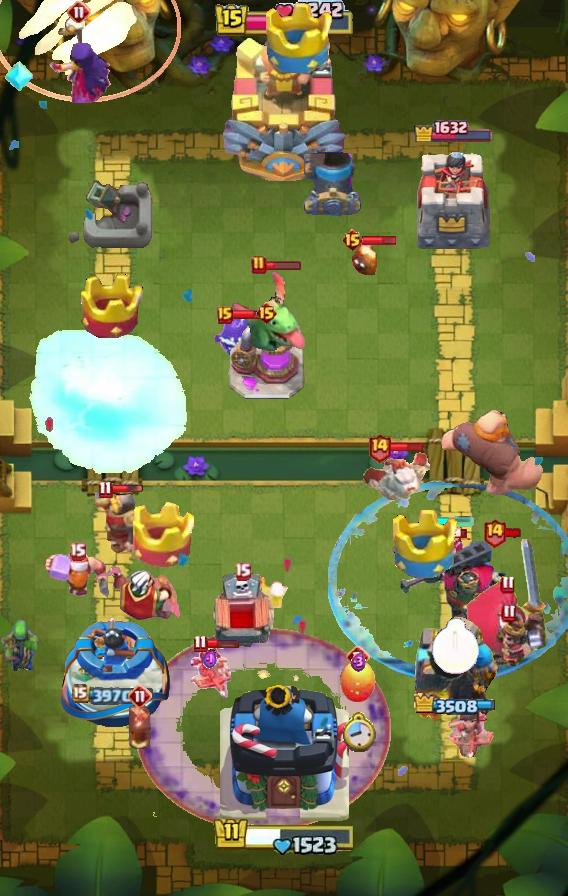axe: (47, 15, 111, 103)
balloon: (440, 407, 544, 499)
bomber: (127, 703, 153, 753), (351, 243, 379, 277)
clock: (212, 813, 356, 855), (213, 0, 355, 40)
electro-spirit: (203, 649, 217, 671), (351, 652, 366, 672)
electro-wizard: (232, 270, 308, 356)
elixir: (431, 617, 481, 674), (340, 710, 376, 752)
elixir-golem-mid: (207, 572, 277, 658)
emote: (231, 307, 267, 320), (265, 260, 303, 272), (390, 441, 426, 453), (204, 638, 240, 650), (362, 234, 398, 245), (110, 484, 144, 494), (448, 527, 468, 539), (505, 527, 524, 539)
firecracker: (93, 491, 142, 552)
giant-snowball: (0, 617, 40, 675)
heal-spirit: (259, 576, 289, 608)
hog: (338, 660, 378, 704)
ice-spirit: (435, 516, 475, 528)
ice-wizard: (0, 0, 180, 102)
inferno-tower: (399, 538, 511, 626)
king-tower: (220, 21, 348, 181), (219, 678, 349, 826)
mega-knight: (26, 328, 192, 478)
mighty-miner: (43, 551, 111, 605)
mini-pekka: (361, 450, 435, 504)
musketeer: (303, 152, 363, 216)
pad_0: (328, 480, 568, 682)
pad_2: (5, 59, 33, 93)
pekka: (227, 319, 305, 401)
queen-tower: (54, 614, 173, 730), (410, 144, 496, 255)
rocket: (135, 628, 391, 832)
selected: (414, 117, 495, 142), (413, 692, 496, 715), (72, 684, 156, 705)
skeleton-dragon: (447, 700, 499, 758), (188, 644, 232, 704)
skeleton-king: (87, 557, 183, 625)
spear-goblin: (210, 312, 262, 356)
text: (367, 433, 392, 463), (481, 517, 506, 547), (67, 0, 91, 24), (346, 645, 370, 669), (128, 684, 152, 708), (340, 228, 363, 252), (255, 301, 278, 325), (69, 542, 87, 561), (251, 255, 267, 275), (233, 563, 250, 581), (217, 306, 233, 324), (99, 481, 114, 499), (193, 635, 208, 653)
tower-bar: (403, 615, 503, 731)
wall-breaker-evolution: (467, 538, 551, 666)
